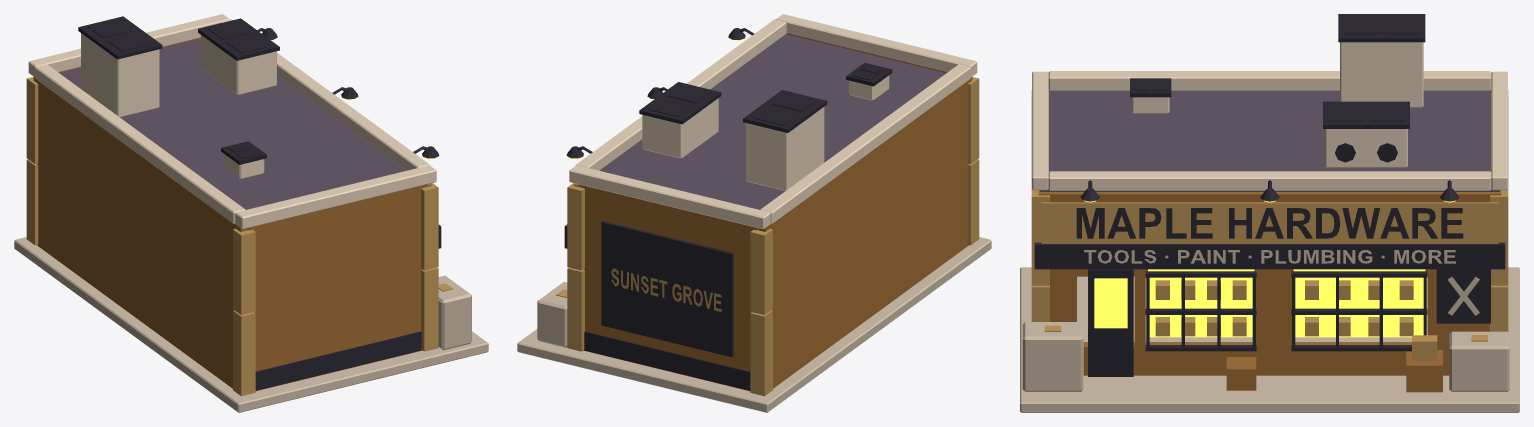
The model's file is bld.maple-hardware.lod2.glb.
3 renders of one model, left to right at view 1: azimuth 30°, elevation 25°; view 2: azimuth 150°, elevation 25°; view 3: azimuth 270°, elevation 25°, orthographic. The views are drawn at different scales.
Parts seen in each view (by area): view 1: object 10, roof, object 7, object 8, object 9; view 2: roof, object 10, object 9, object 7, object 8; view 3: roof, object 7, object 9, object 10, object 8, interior, door_front.
Part boxes in pixels (left/top/right/bottom): object 10: left=33, top=37, right=432, bottom=391; roof: left=28, top=14, right=436, bottom=229; object 7: left=14, top=237, right=488, bottom=412; object 8: left=26, top=77, right=452, bottom=396; object 9: left=255, top=224, right=441, bottom=390; roof: left=569, top=14, right=977, bottom=229; object 10: left=573, top=33, right=972, bottom=391; object 9: left=564, top=221, right=750, bottom=390; object 7: left=517, top=237, right=991, bottom=412; object 8: left=556, top=77, right=979, bottom=396; roof: left=1032, top=14, right=1507, bottom=191; object 7: left=1020, top=250, right=1519, bottom=412; object 9: left=1034, top=208, right=1505, bottom=351; object 10: left=1038, top=90, right=1501, bottom=392; object 8: left=1031, top=90, right=1508, bottom=361; interior: left=1148, top=269, right=1425, bottom=337; door_front: left=1088, top=269, right=1133, bottom=376.
Bounding box in the file's own units: 7.35 × 6.95 × 11.4.
